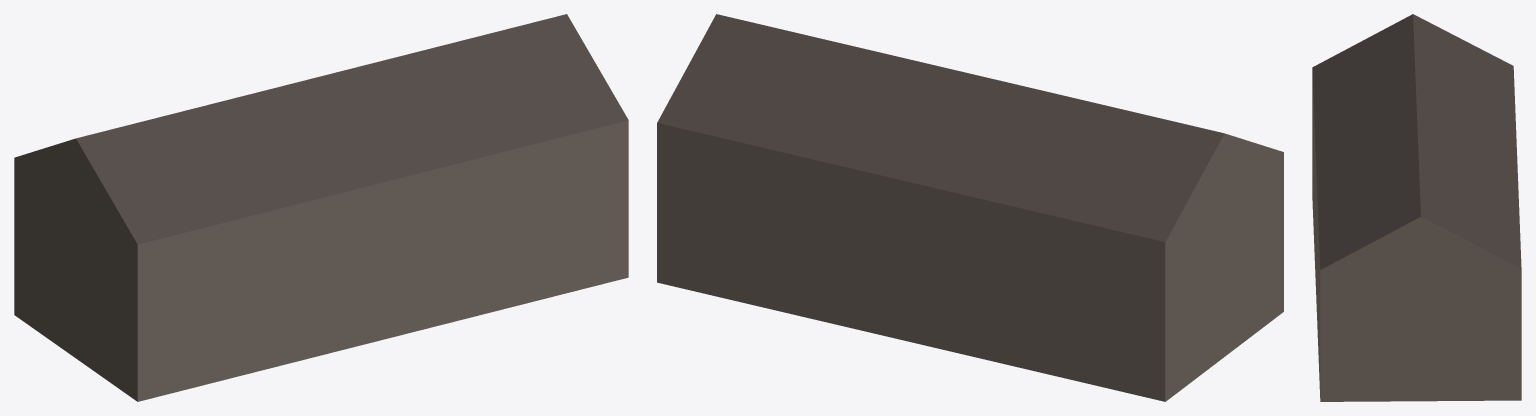
3 views of the same model, side by side, from view 1: azimuth 30°, elevation 25°; view 2: azimuth 150°, elevation 25°; view 3: azimuth 270°, elevation 25° (orthographic). The views are drawn at different scales.
Visible parts, largest first — view 1: HP-w859488628; view 2: HP-w859488628; view 3: HP-w859488628.
Boxes of the visible parts, x1,y1,x2,y2 form: HP-w859488628: (14,14,628,401); HP-w859488628: (657,14,1283,401); HP-w859488628: (1312,14,1521,401).
Bounding box in the file's own units: 29.9 × 12.59 × 12.94.
